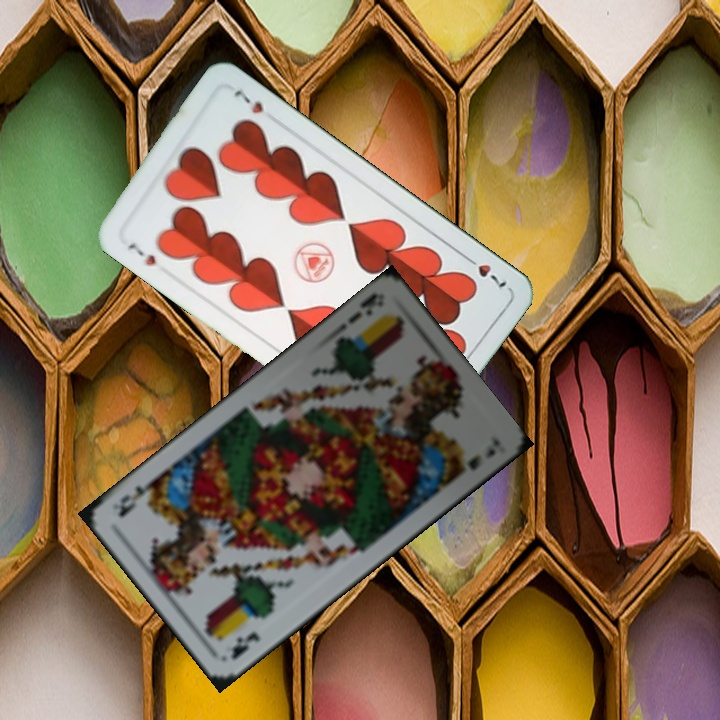EK: (344, 289, 387, 326), (227, 628, 263, 662)
H7: (460, 251, 510, 291), (124, 238, 159, 269)
